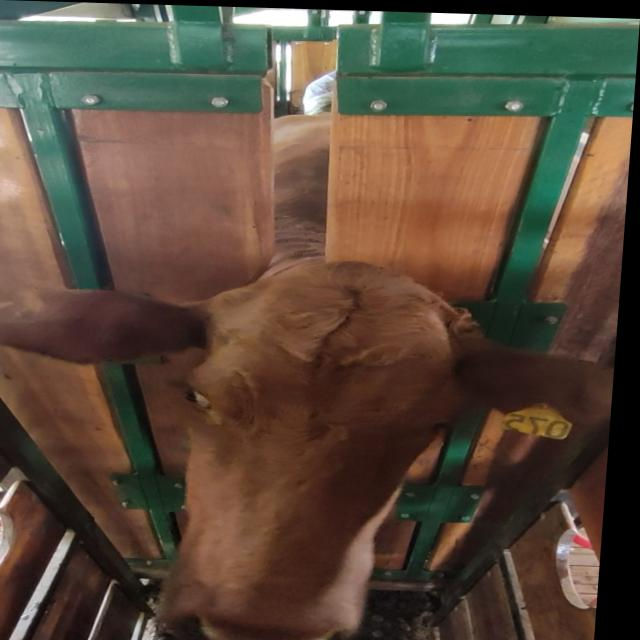cowFace: (166, 257, 475, 640)
